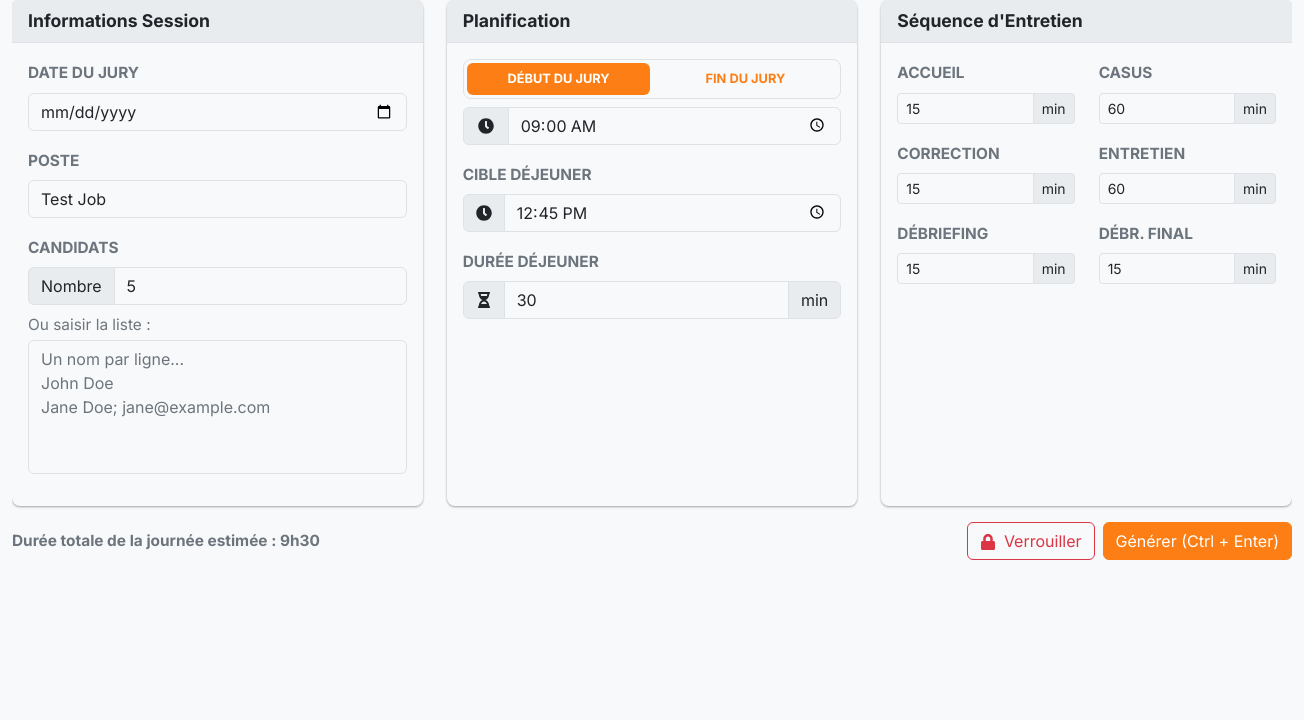
Test: InterviewForm › announces errors programmatically and accessibly in French upon invalid submission
The image size is (1304, 720).
// Click generate button
Click the button "Générer (Ctrl + Enter)": (1197, 541) 1102,522 -> 1292,560
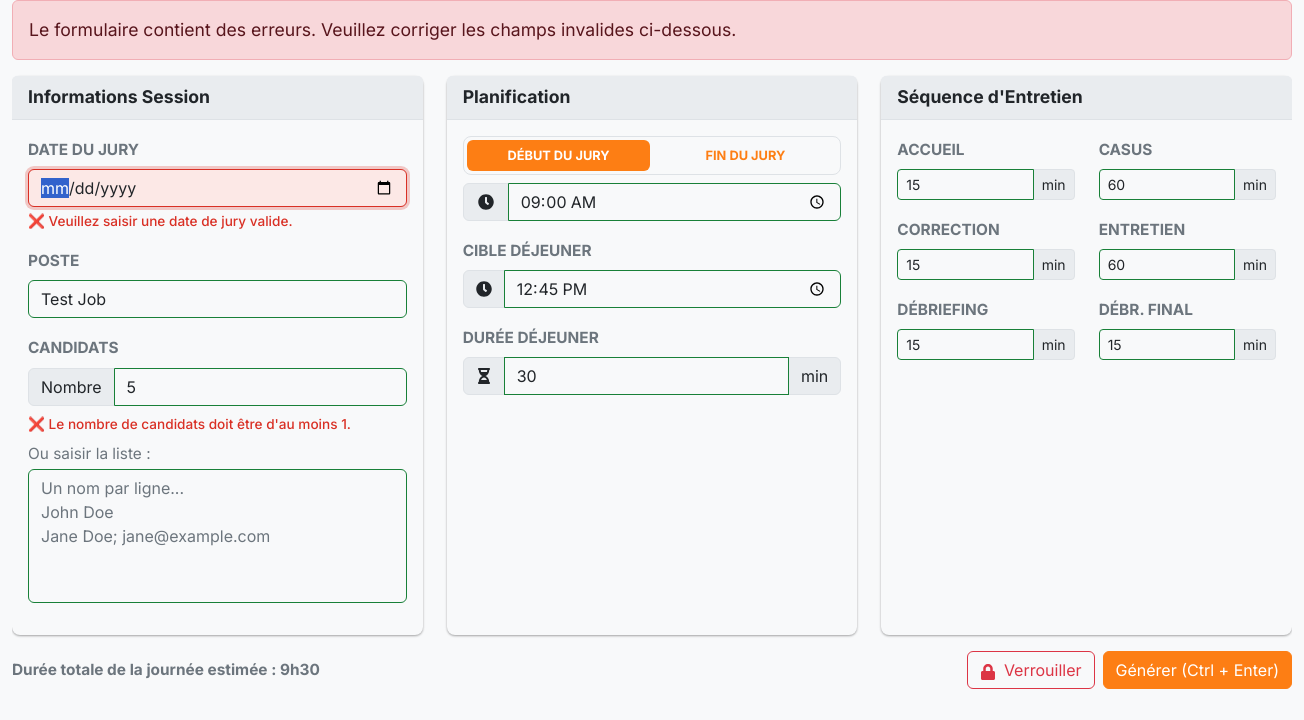
Expected: the text "Le formulaire contient des erreurs" is shown, 29,19 -> 736,40
Expected: the message "❌ Veuillez saisir une date de jury valide." is shown, 28,213 -> 292,229
Expected: the message with id "juryDate-error" shows "Veuillez saisir une date de jury valide", 45,213 -> 293,229
